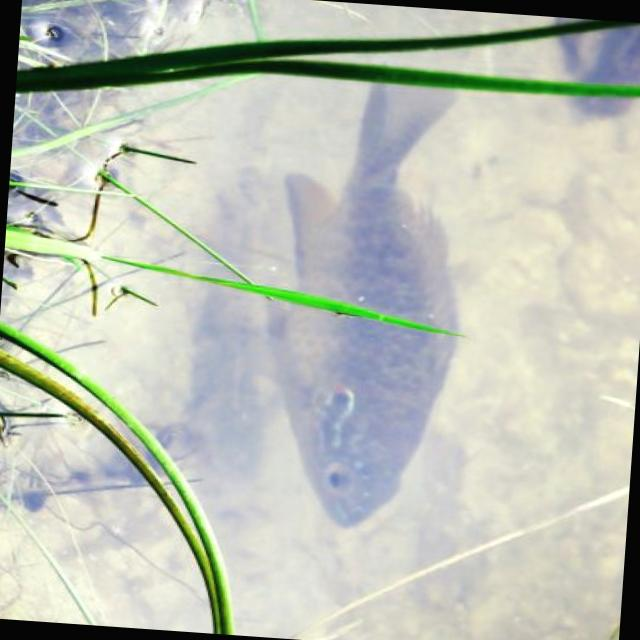Gunes Levregi: (236, 46, 486, 548)
